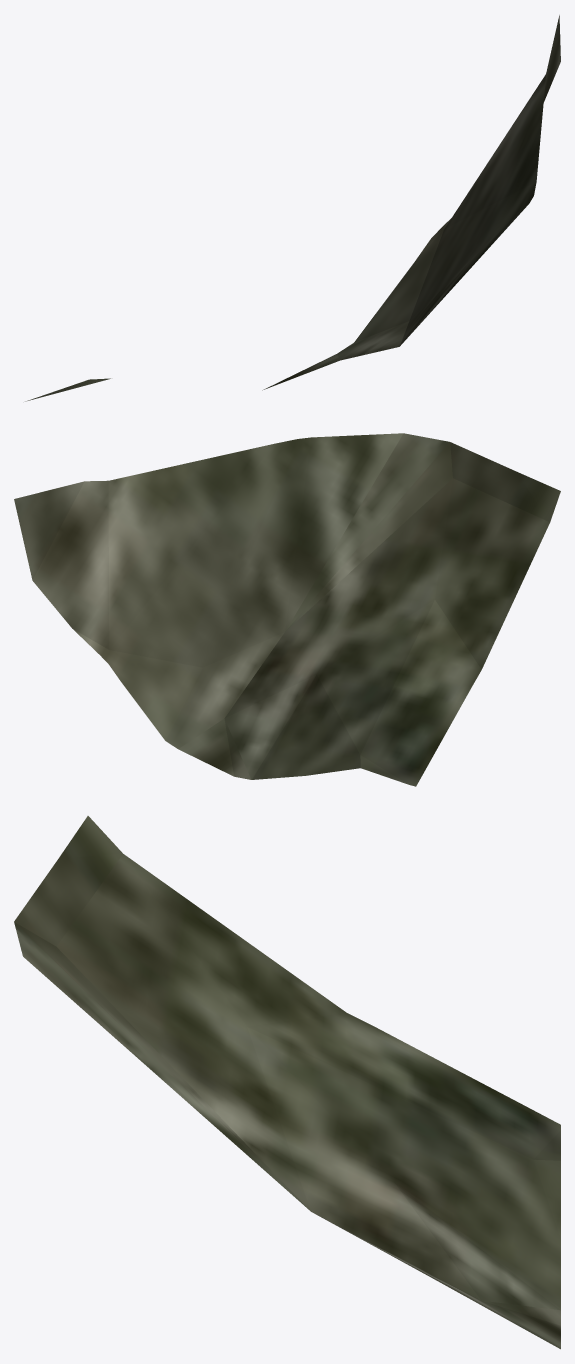
3 views of the same model, one above another, from view 1: azimuth 30°, elevation 25°; view 2: azimuth 150°, elevation 25°; view 3: azimuth 270°, elevation 25° (orthographic). The views are drawn at different scales.
Size of the model in its own units: 0.9702 by 0.5163 by 0.7005.
1 material, 1 textured.
